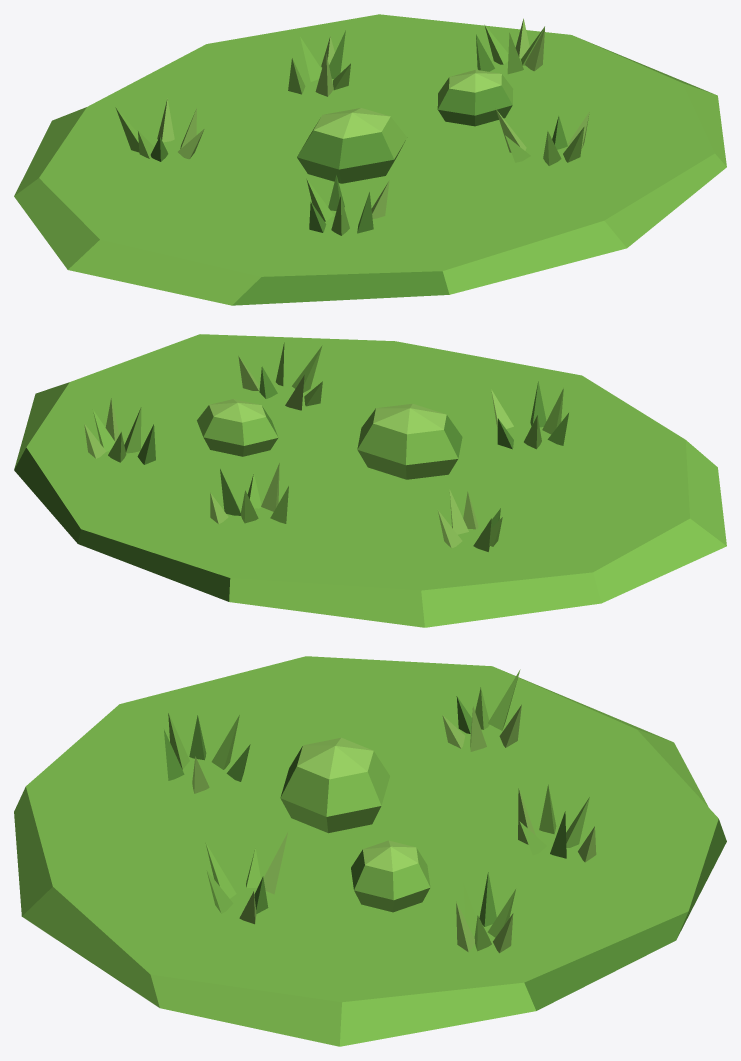
File: patch-grass-foliage.glb
3 views of the same model, one above another, from view 1: azimuth 30°, elevation 25°; view 2: azimuth 150°, elevation 25°; view 3: azimuth 270°, elevation 25° (orthographic). The views are drawn at different scales.
Visible parts, largest first — view 1: patch-grass-foliage; view 2: patch-grass-foliage; view 3: patch-grass-foliage.
Part boxes in pixels (box(x1,y1,x2,y2)): patch-grass-foliage: box(14, 14, 726, 305); patch-grass-foliage: box(14, 334, 726, 627); patch-grass-foliage: box(14, 656, 726, 1046).
Size of the model in its own units: 5.28 by 0.56 by 4.12.
1 material, 1 textured.
